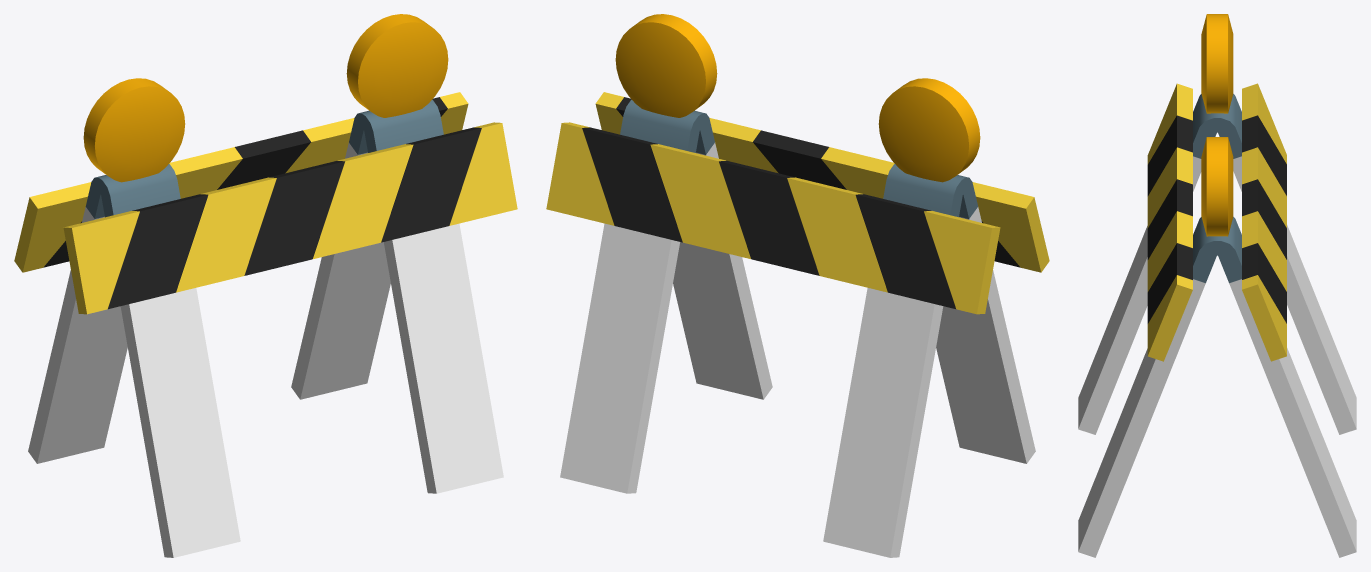
The model's file is construction.glb.
The picture shows the model from 3 angles, left to right: view 1: azimuth 30°, elevation 25°; view 2: azimuth 150°, elevation 25°; view 3: azimuth 270°, elevation 25°; orthographic projection. The views are drawn at different scales.
Visible parts, largest first — view 1: Circle.2398, Plane.237; view 2: Circle.2398, Plane.237; view 3: Circle.2398, Plane.237.
Part boxes in pixels (x1,y1,x2,y2): Circle.2398: [28, 14, 503, 557]; Plane.237: [14, 92, 517, 314]; Circle.2398: [560, 14, 1035, 557]; Plane.237: [546, 92, 1049, 314]; Circle.2398: [1078, 14, 1356, 557]; Plane.237: [1147, 83, 1286, 361].
Bounding box in the file's own units: 2.22 × 2.06 × 1.3.
Materials: 1 (1 with a texture image).
